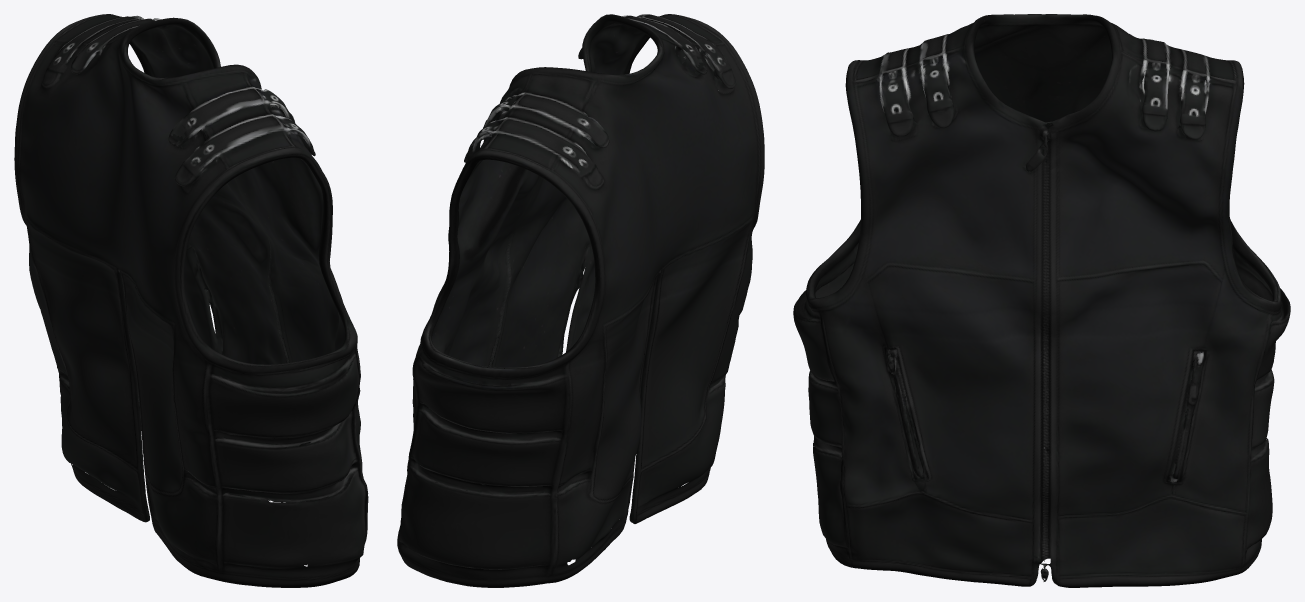
File: prsluk-3dmodel.glb
3 views of the same model, side by side, from view 1: azimuth 30°, elevation 25°; view 2: azimuth 150°, elevation 25°; view 3: azimuth 270°, elevation 25° (orthographic). The views are drawn at different scales.
Parts seen in each view (by area): view 1: tripo_node_dc9e5c96; view 2: tripo_node_dc9e5c96; view 3: tripo_node_dc9e5c96.
Part boxes in pixels (x1,y1,x2,y2): tripo_node_dc9e5c96: (14, 14, 368, 587); tripo_node_dc9e5c96: (397, 14, 764, 587); tripo_node_dc9e5c96: (793, 14, 1290, 587).
Bounding box in the file's own units: 0.4389 × 0.9767 × 0.8747.
Materials: 1 (1 with a texture image).
